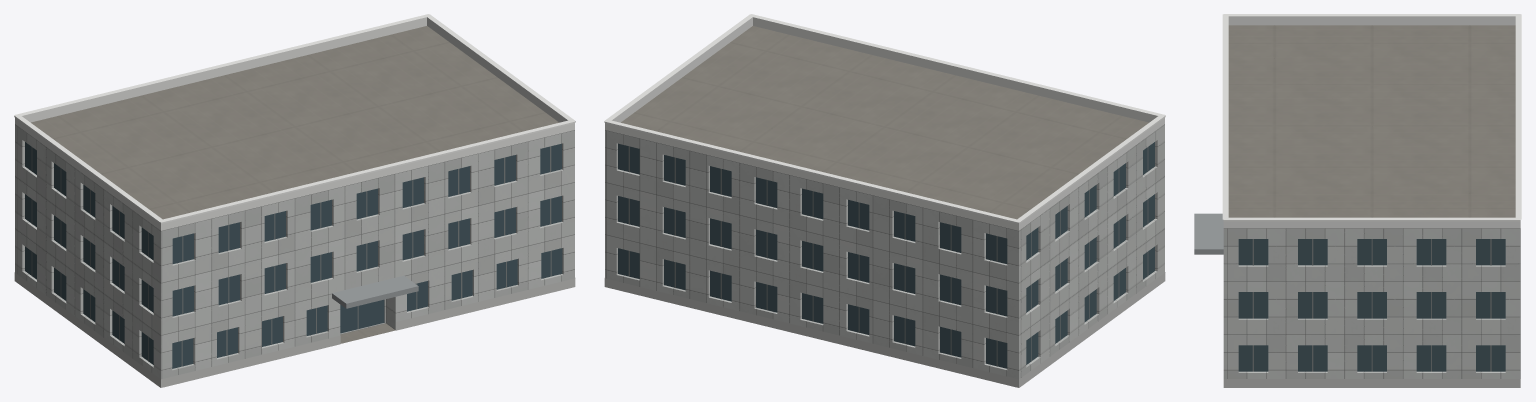
3 views of the same model, side by side, from view 1: azimuth 30°, elevation 25°; view 2: azimuth 150°, elevation 25°; view 3: azimuth 270°, elevation 25° (orthographic).
Visible parts, largest first — view 1: lab2__wall, lab2__roof, lab2__glass, lab2__parapet, lab2__trim, lab2__base, lab2__frame, lab2__canopy; view 2: lab2__wall, lab2__roof, lab2__glass, lab2__parapet, lab2__base, lab2__trim, lab2__frame; view 3: lab2__roof, lab2__wall, lab2__glass, lab2__parapet, lab2__trim, lab2__base, lab2__canopy, lab2__frame.
Part boxes in pixels (<box>): lab2__wall: <box>15,124,574,387</box>; lab2__roof: <box>31,26,558,343</box>; lab2__glass: <box>25,142,562,368</box>; lab2__parapet: <box>15,17,574,230</box>; lab2__trim: <box>14,14,575,223</box>; lab2__base: <box>14,272,575,387</box>; lab2__frame: <box>31,146,551,366</box>; lab2__canopy: <box>332,275,418,308</box>; lab2__wall: <box>605,124,1164,387</box>; lab2__roof: <box>621,26,1148,219</box>; lab2__glass: <box>618,142,1154,368</box>; lab2__parapet: <box>605,17,1164,230</box>; lab2__base: <box>604,272,1165,387</box>; lab2__trim: <box>604,14,1165,223</box>; lab2__frame: <box>628,146,1148,366</box>; lab2__roof: <box>1228,25,1515,217</box>; lab2__wall: <box>1223,228,1520,378</box>; lab2__glass: <box>1238,239,1505,371</box>; lab2__parapet: <box>1223,16,1520,228</box>; lab2__trim: <box>1222,14,1521,221</box>; lab2__base: <box>1223,379,1520,387</box>; lab2__canopy: <box>1194,213,1223,254</box>; lab2__frame: <box>1252,239,1491,371</box>.
Bounding box in the file's own units: 29.95 × 11.4 × 20.09.
Materials: 9 (2 with a texture image).
